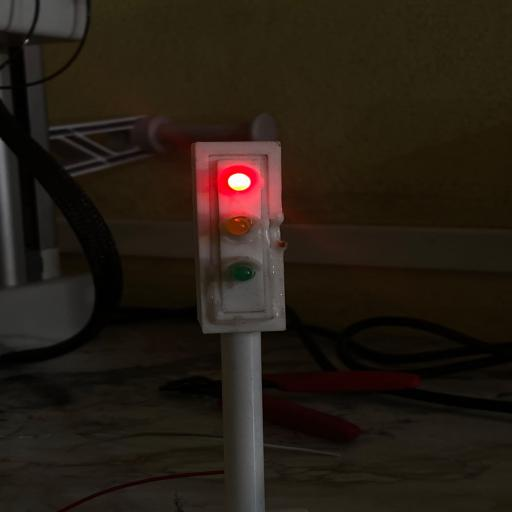Red Light: (219, 164, 263, 195), (228, 173, 251, 191)
